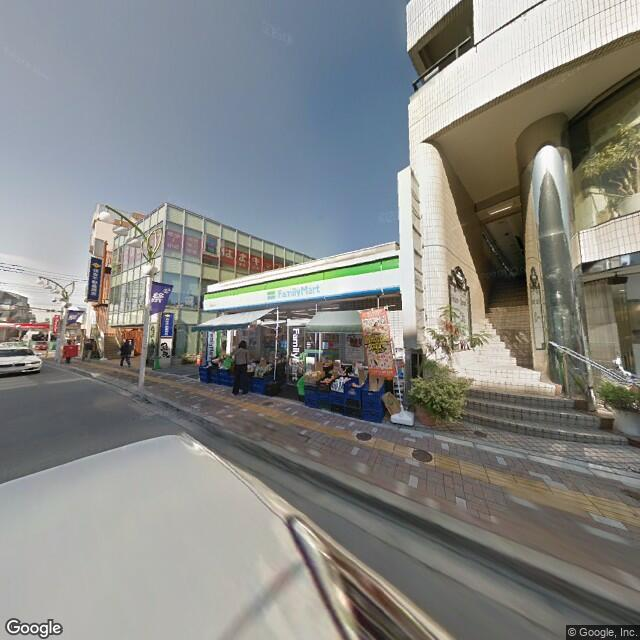family_mart: (203, 253, 402, 317), (265, 279, 322, 305), (204, 325, 225, 365), (289, 322, 302, 386)
